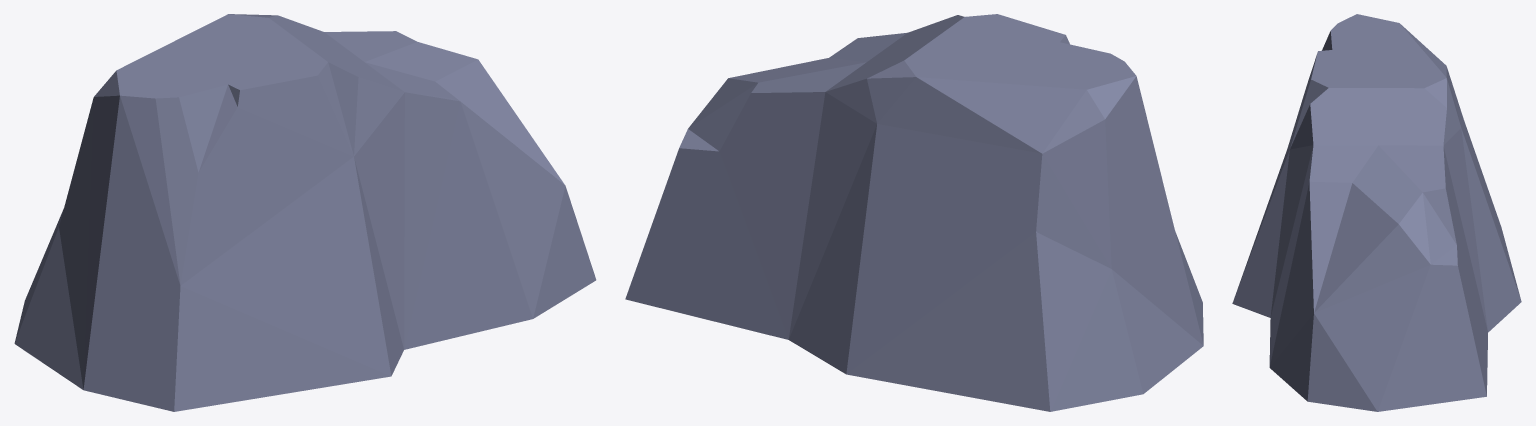
The model's file is Rock_4 Asia.fbx.
3 views of the same model, side by side, from view 1: azimuth 30°, elevation 25°; view 2: azimuth 150°, elevation 25°; view 3: azimuth 270°, elevation 25° (orthographic). The views are drawn at different scales.
Parts seen in each view (by area): view 1: Rock_4; view 2: Rock_4; view 3: Rock_4.
Boxes of the visible parts, x1,y1,x2,y2 form: Rock_4: [14, 14, 596, 411]; Rock_4: [625, 14, 1203, 411]; Rock_4: [1232, 14, 1521, 411].
Size of the model in its own units: 4.78 by 2.34 by 2.85.
